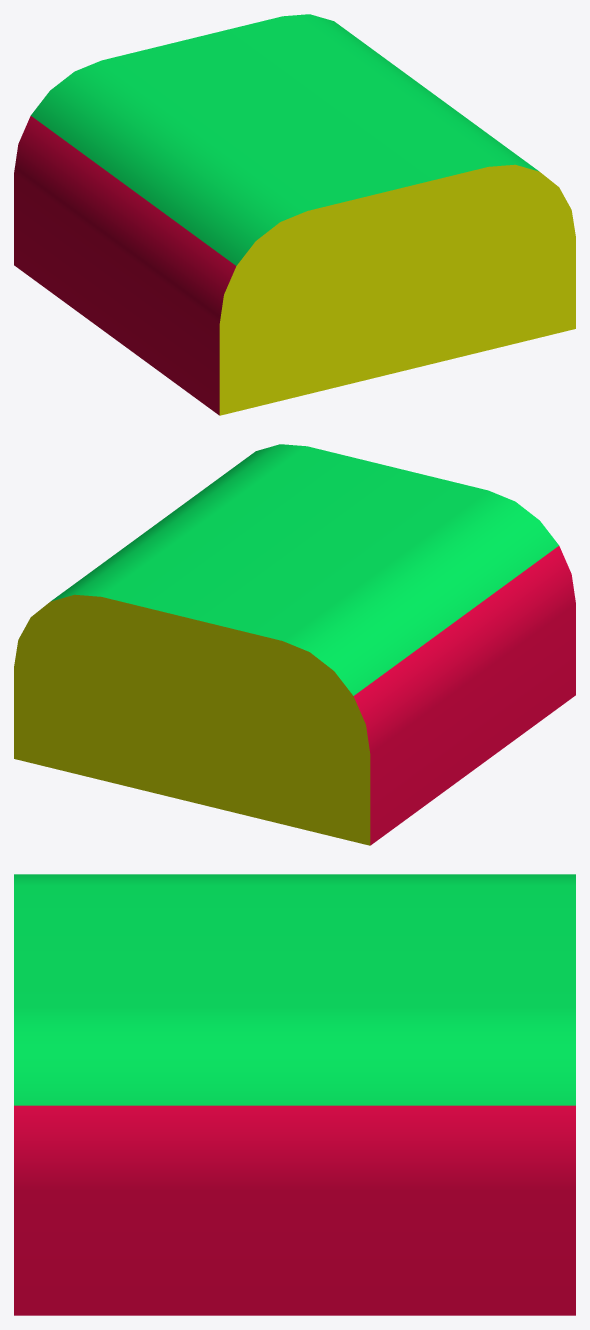
The model's file is Rounded_House2.fbx.
The picture shows the model from 3 angles, top to bottom: view 1: azimuth 30°, elevation 25°; view 2: azimuth 150°, elevation 25°; view 3: azimuth 270°, elevation 25°; orthographic projection. The views are drawn at different scales.
Parts seen in each view (by area): view 1: pCube109; view 2: pCube109; view 3: pCube109.
Part boxes in pixels (x1,y1,x2,y2): pCube109: (14,14,575,415); pCube109: (14,444,575,845); pCube109: (14,874,575,1315).
Bounding box in the file's own units: 123 × 60.74 × 123.
